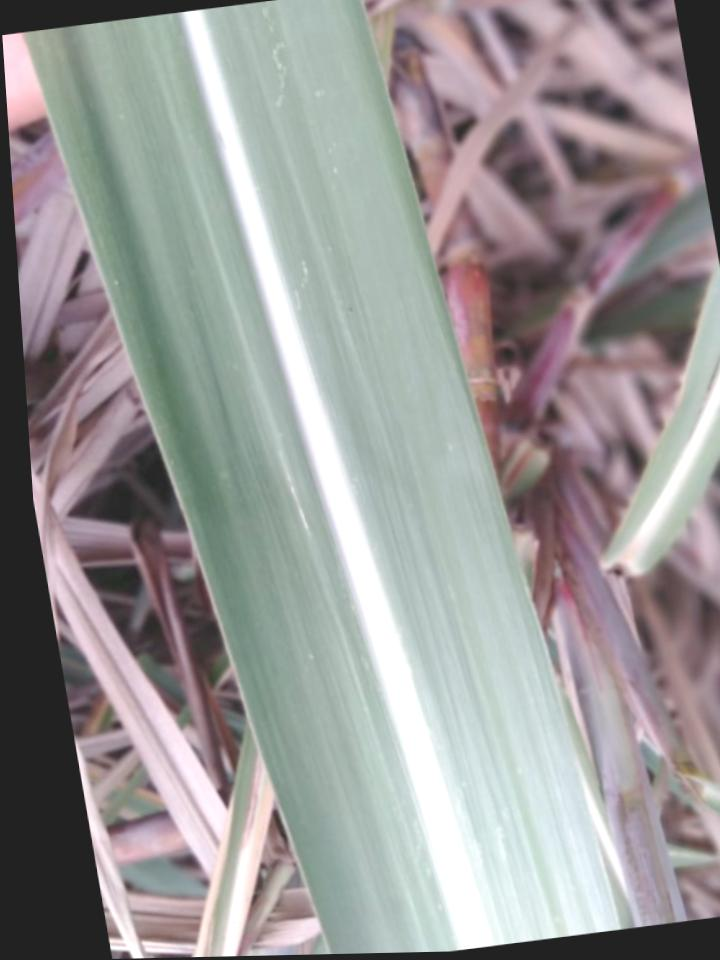Healthy: (21, 0, 623, 954)
